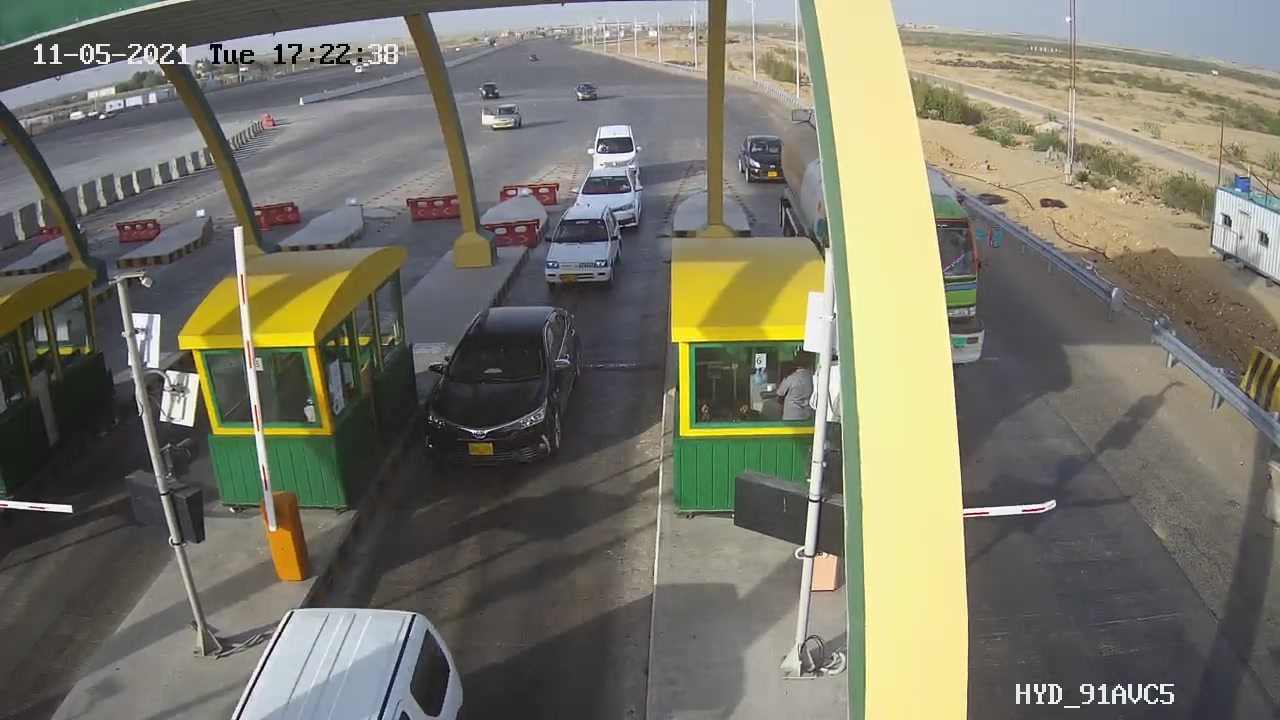F1: (404, 294, 600, 479), (530, 192, 640, 300)
